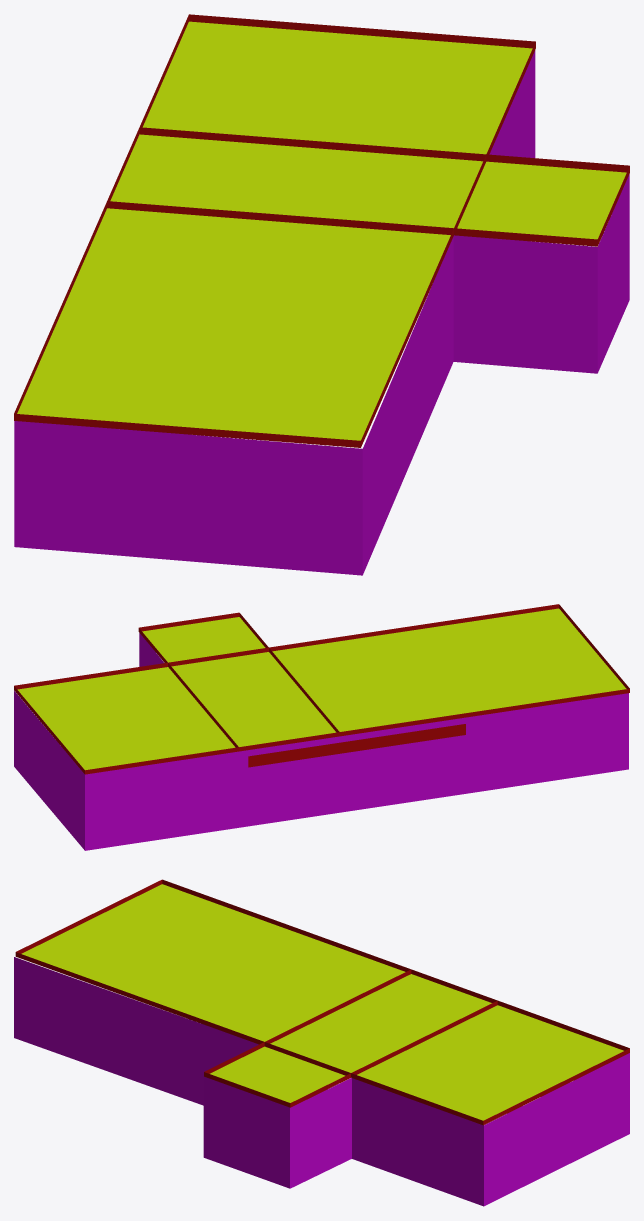
The model's file is ssv_12.glb.
3 renders of one model, top to bottom at view 1: azimuth 30°, elevation 25°; view 2: azimuth 150°, elevation 25°; view 3: azimuth 270°, elevation 25°, orthographic. The views are drawn at different scales.
Visible parts, largest first — view 1: ssv_12; view 2: ssv_12; view 3: ssv_12.
Part boxes in pixels (x1,y1,x2,y2): ssv_12: (14, 14, 629, 575); ssv_12: (14, 604, 629, 850); ssv_12: (14, 879, 629, 1206).
Bounding box in the file's own units: 39.31 × 6.51 × 42.4.
